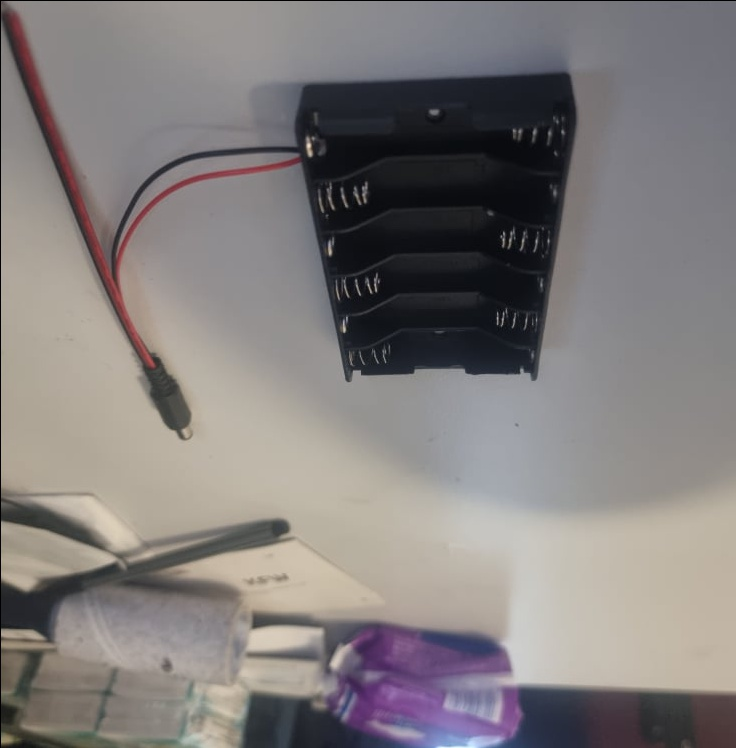BATTERY BOX: (294, 73, 577, 383)
